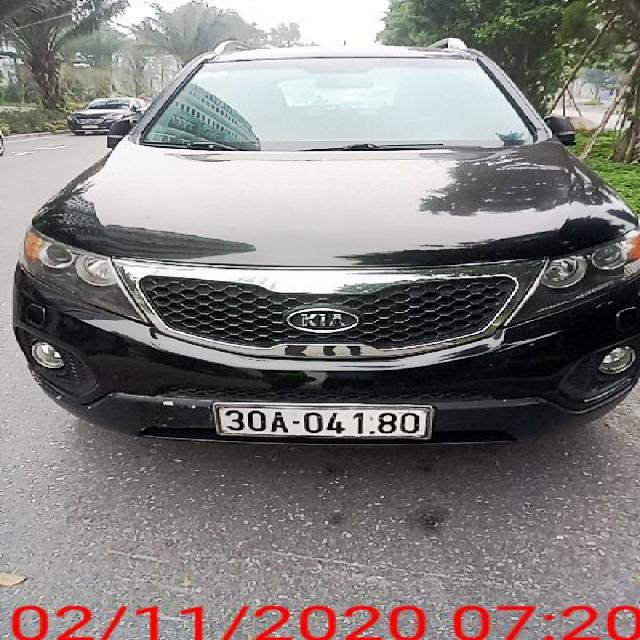license_plate: (220, 405, 431, 436)
